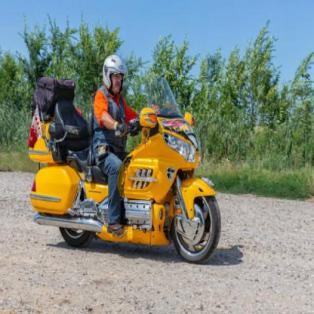Motocicleta: (20, 89, 226, 267)
